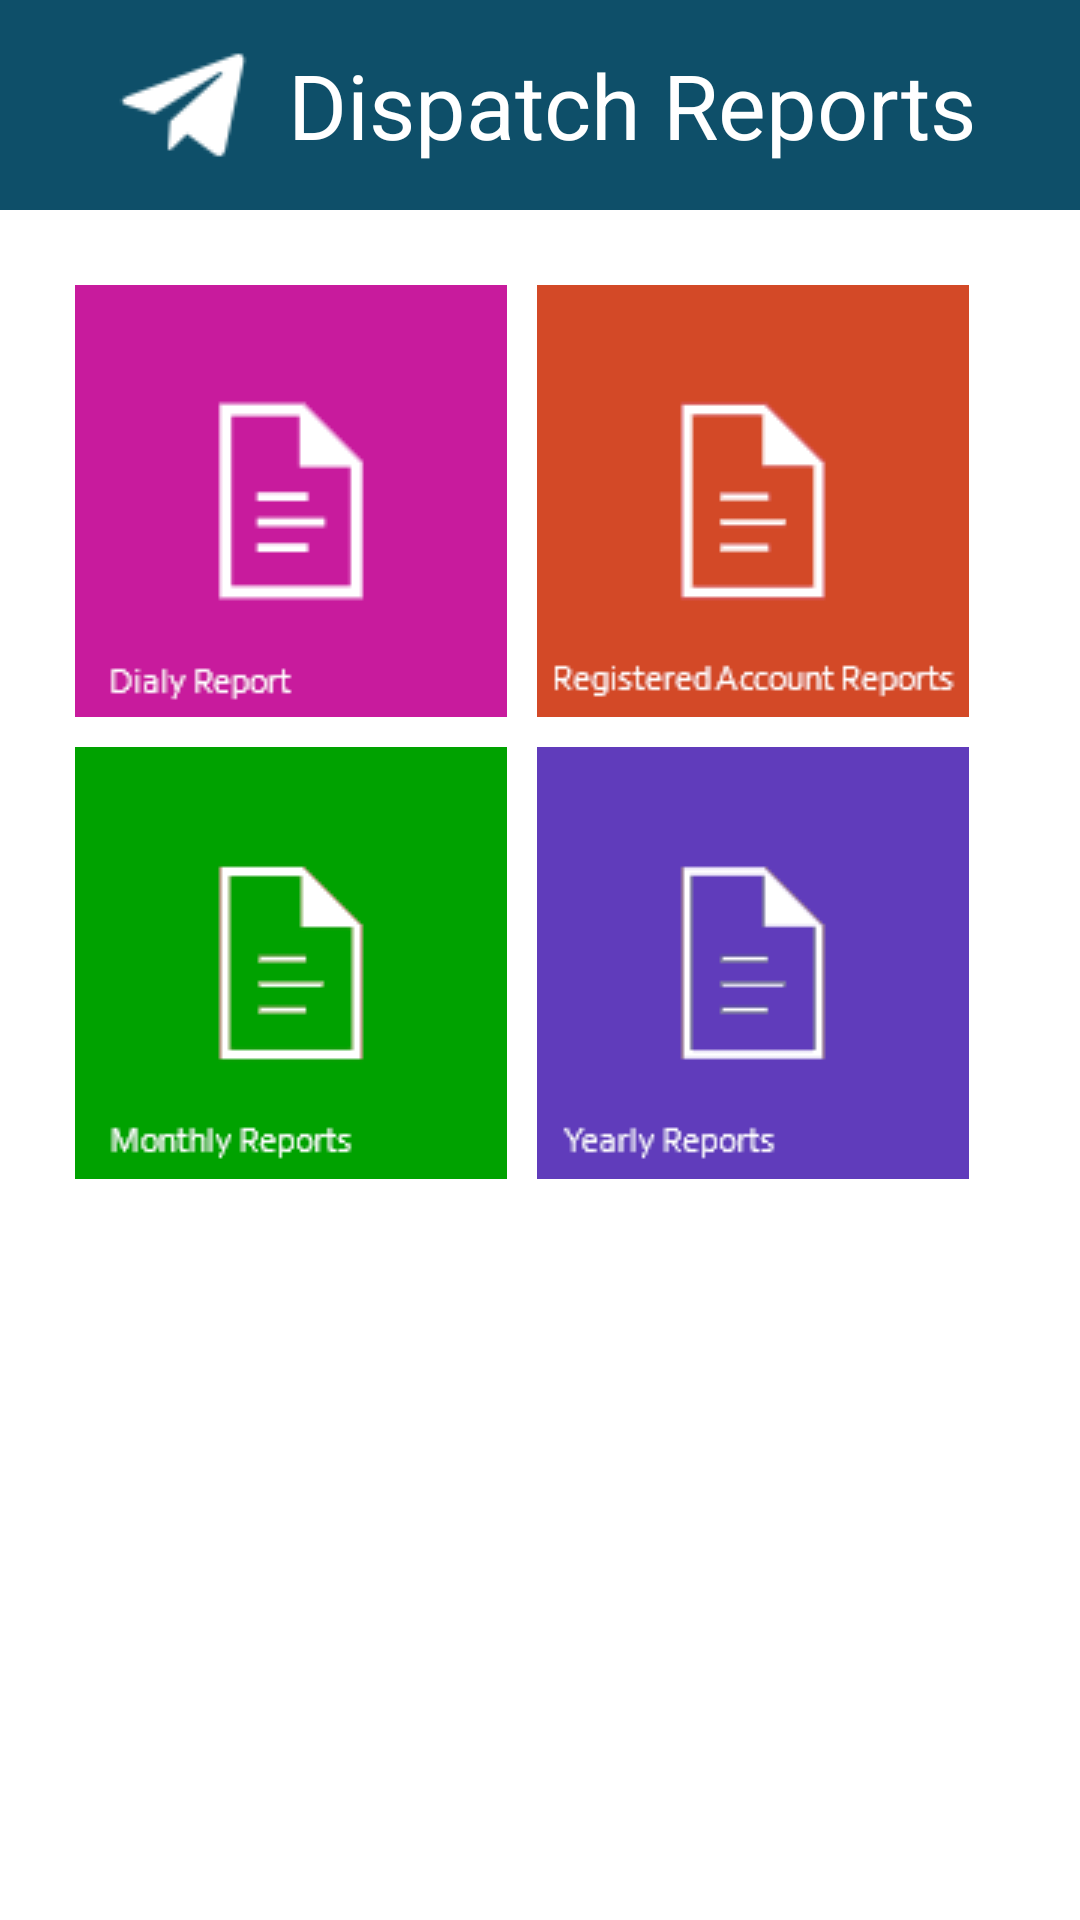

Where icons sit on this 1080x1920 app screen, as (x1, y1, x2, y2):
dispach: (121, 53, 246, 157)
